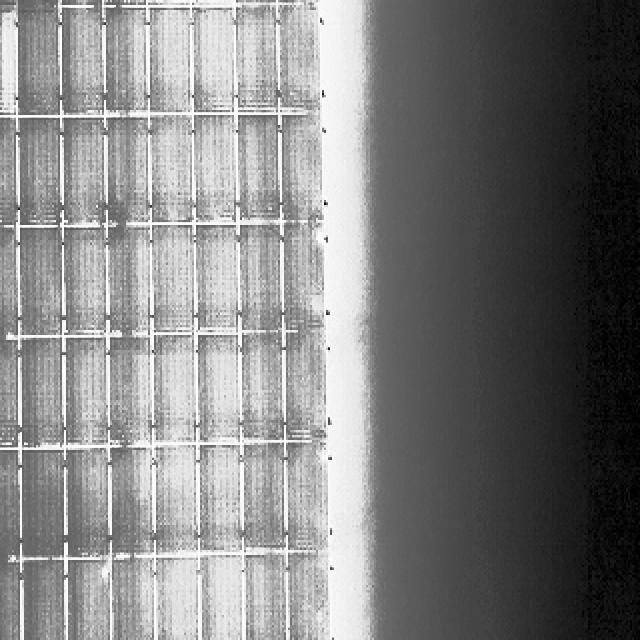Hotspots: (308, 226, 327, 250), (2, 322, 20, 346), (100, 566, 113, 584)
PV-modules: (22, 336, 70, 446), (151, 446, 198, 556), (154, 119, 200, 229), (63, 448, 109, 558), (192, 117, 237, 229), (63, 334, 108, 446), (148, 225, 194, 334), (157, 333, 202, 444), (196, 332, 241, 443), (283, 333, 328, 444), (20, 120, 66, 228), (59, 10, 104, 120), (151, 8, 196, 118), (190, 8, 235, 118), (21, 227, 66, 337), (111, 447, 156, 557), (194, 221, 239, 331), (243, 442, 288, 552), (107, 227, 152, 336), (106, 8, 151, 117), (60, 117, 105, 225), (23, 449, 68, 557), (279, 117, 324, 225), (105, 116, 150, 224), (61, 227, 106, 335), (284, 444, 328, 554), (241, 334, 285, 444), (198, 445, 242, 554), (18, 10, 63, 116), (238, 114, 282, 221), (239, 225, 283, 332), (282, 223, 325, 332), (109, 335, 152, 443), (236, 7, 279, 114), (277, 7, 320, 113), (65, 562, 116, 640), (239, 556, 286, 640), (285, 551, 330, 637), (198, 559, 245, 640), (108, 560, 155, 640), (24, 563, 70, 640), (158, 560, 202, 640), (0, 448, 22, 558), (0, 340, 20, 450), (0, 225, 18, 337), (0, 562, 22, 640), (0, 118, 14, 230), (0, 10, 10, 120), (12, 0, 56, 8), (58, 0, 104, 5), (102, 0, 148, 5), (188, 0, 232, 5), (142, 0, 188, 2), (234, 0, 278, 2), (274, 0, 318, 2), (0, 0, 10, 8)
